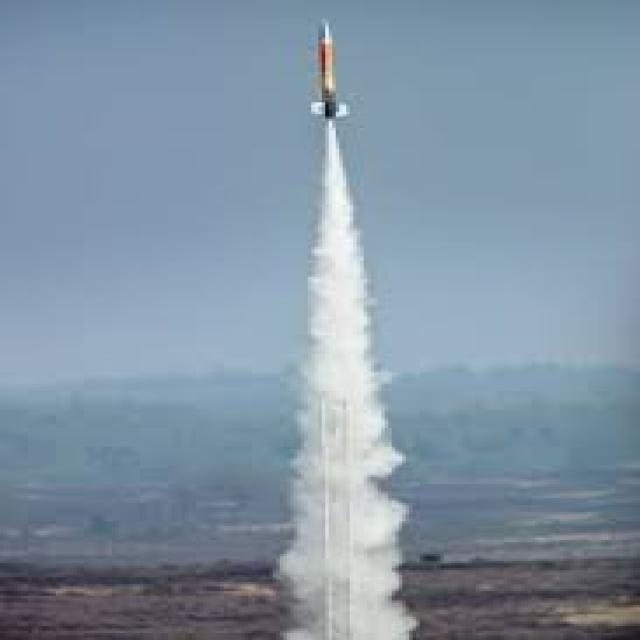Rocket: (303, 14, 354, 119)
